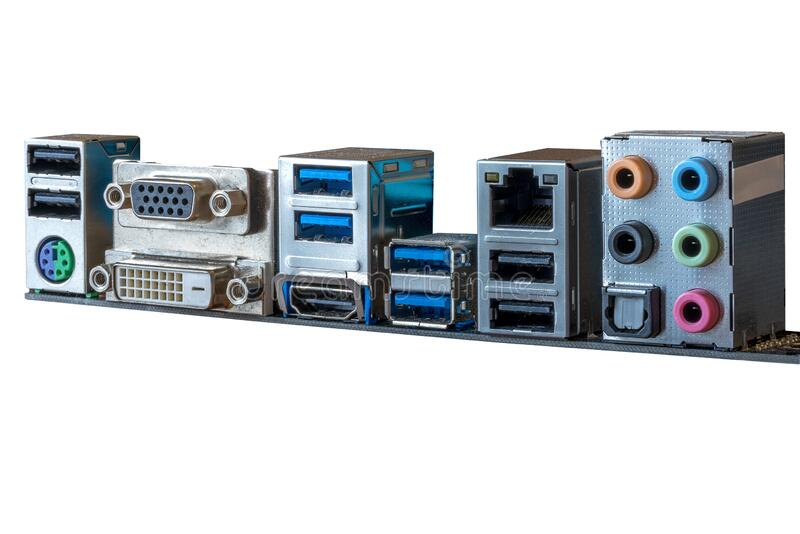Audio: (670, 222, 722, 275), (667, 153, 720, 203), (605, 217, 655, 267), (607, 151, 654, 203), (674, 286, 720, 337)
DVI: (112, 259, 223, 313)
Ethernet: (477, 164, 566, 237)
HDMI: (279, 278, 372, 324)
USB: (384, 289, 460, 335), (487, 246, 561, 292), (385, 240, 462, 283), (486, 293, 558, 336), (287, 207, 360, 247), (285, 160, 361, 198), (25, 144, 84, 182), (25, 189, 86, 223)
VGA: (130, 176, 202, 226)
